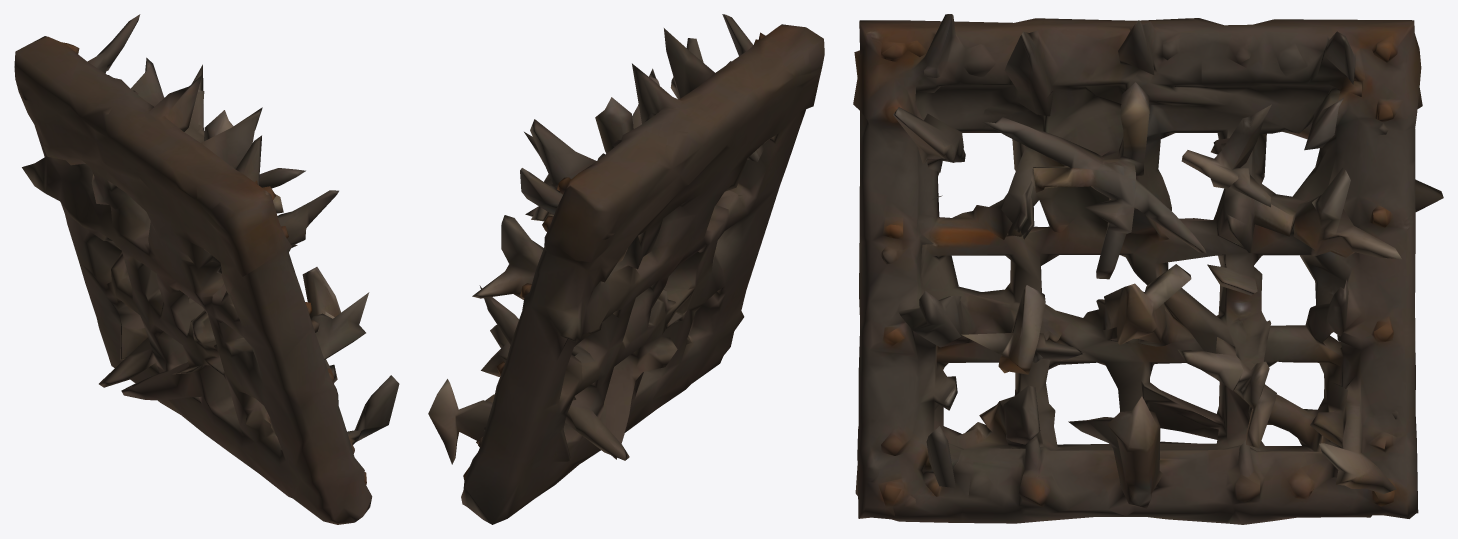
Rendered from spike_trap.glb.
The picture shows the model from 3 angles, left to right: view 1: azimuth 30°, elevation 25°; view 2: azimuth 150°, elevation 25°; view 3: azimuth 270°, elevation 25°; orthographic projection. The views are drawn at different scales.
Parts seen in each view (by area): view 1: tripo_node_13ac5eba-b7c9-43a7-b9a3-9ec9400a5325; view 2: tripo_node_13ac5eba-b7c9-43a7-b9a3-9ec9400a5325; view 3: tripo_node_13ac5eba-b7c9-43a7-b9a3-9ec9400a5325.
Part boxes in pixels (x1=…): tripo_node_13ac5eba-b7c9-43a7-b9a3-9ec9400a5325: x1=14, y1=14, x2=399, y2=524; tripo_node_13ac5eba-b7c9-43a7-b9a3-9ec9400a5325: x1=428, y1=14, x2=824, y2=524; tripo_node_13ac5eba-b7c9-43a7-b9a3-9ec9400a5325: x1=853, y1=14, x2=1443, y2=524.
Size of the model in its own units: 0.484 by 0.8907 by 1.
Materials: 1 (1 with a texture image).
